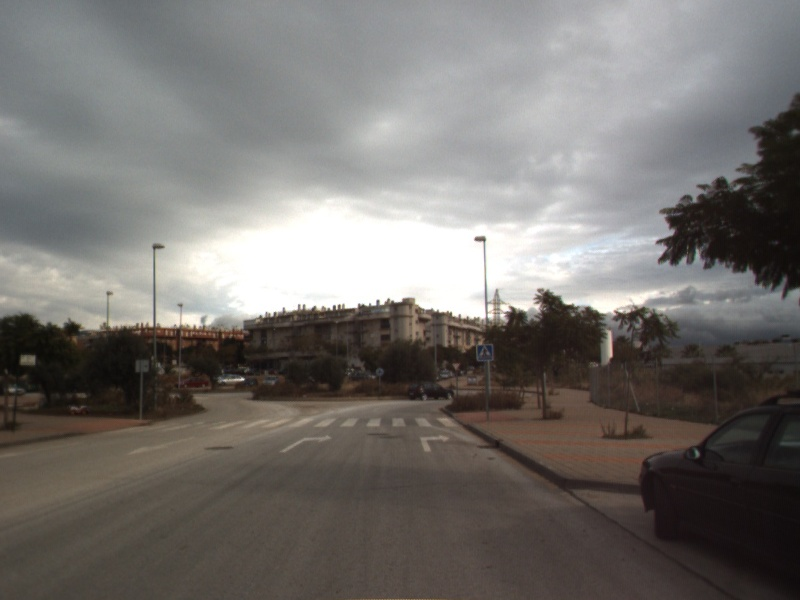RIGHT: (278, 433, 334, 454), (418, 432, 452, 454)
